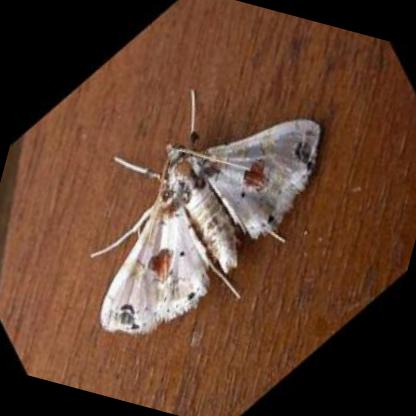leucinodes: (101, 121, 318, 335)
